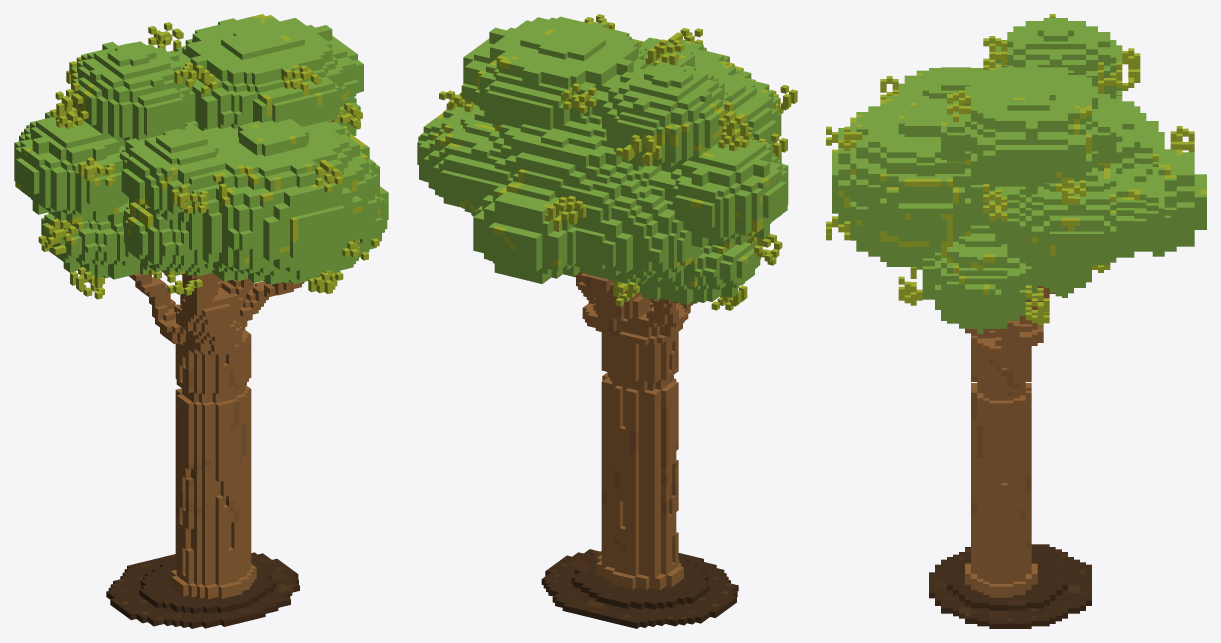
The model's file is 1_0 pitomb.obj.
3 renders of one model, left to right at view 1: azimuth 30°, elevation 25°; view 2: azimuth 150°, elevation 25°; view 3: azimuth 270°, elevation 25°, orthographic.
Bounding box in the file's own units: 6.3 × 9.8 × 6.3.
Materials: 1 (1 with a texture image).
